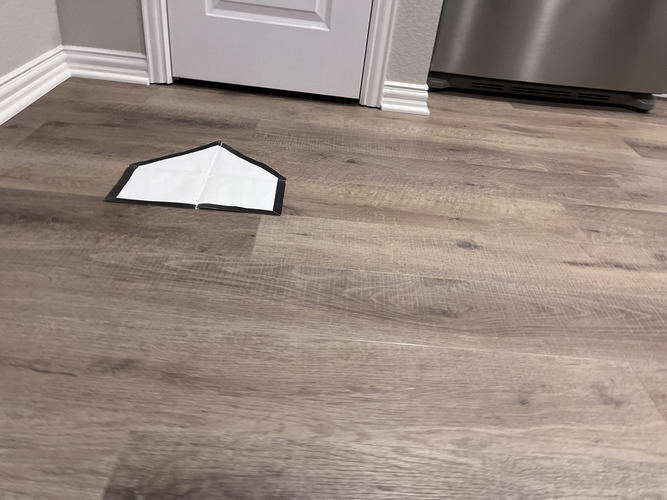homeplate: (100, 142, 285, 216)
